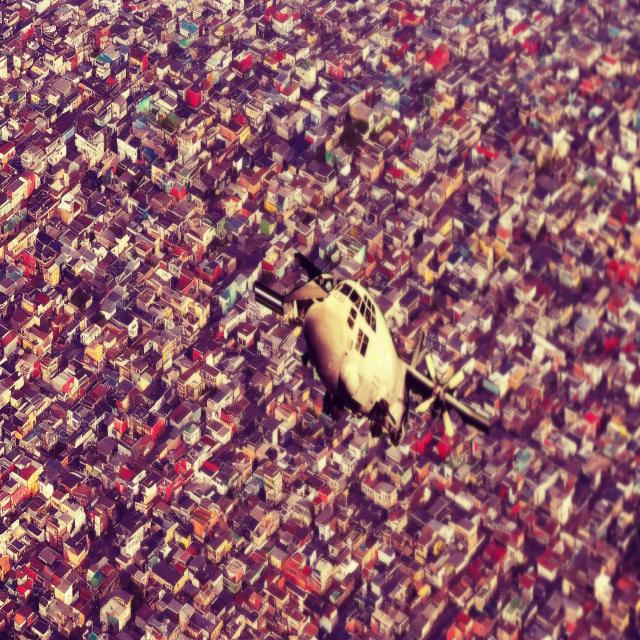airplane: (253, 270, 491, 447)
